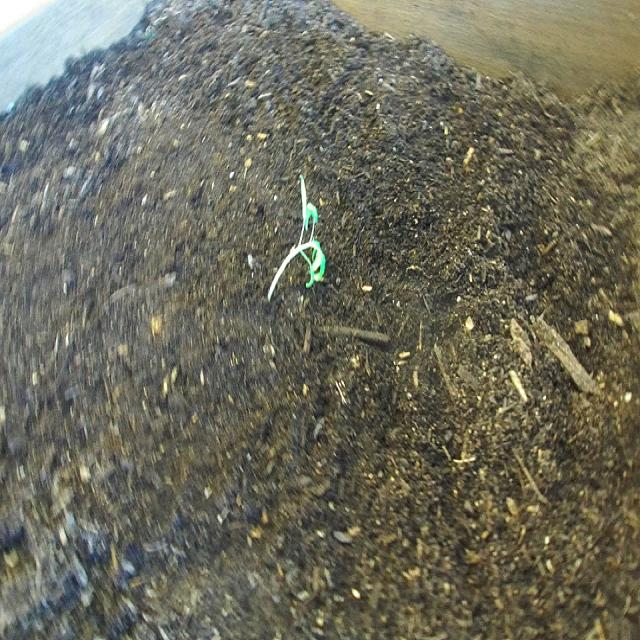Healthy: (263, 169, 330, 308)
